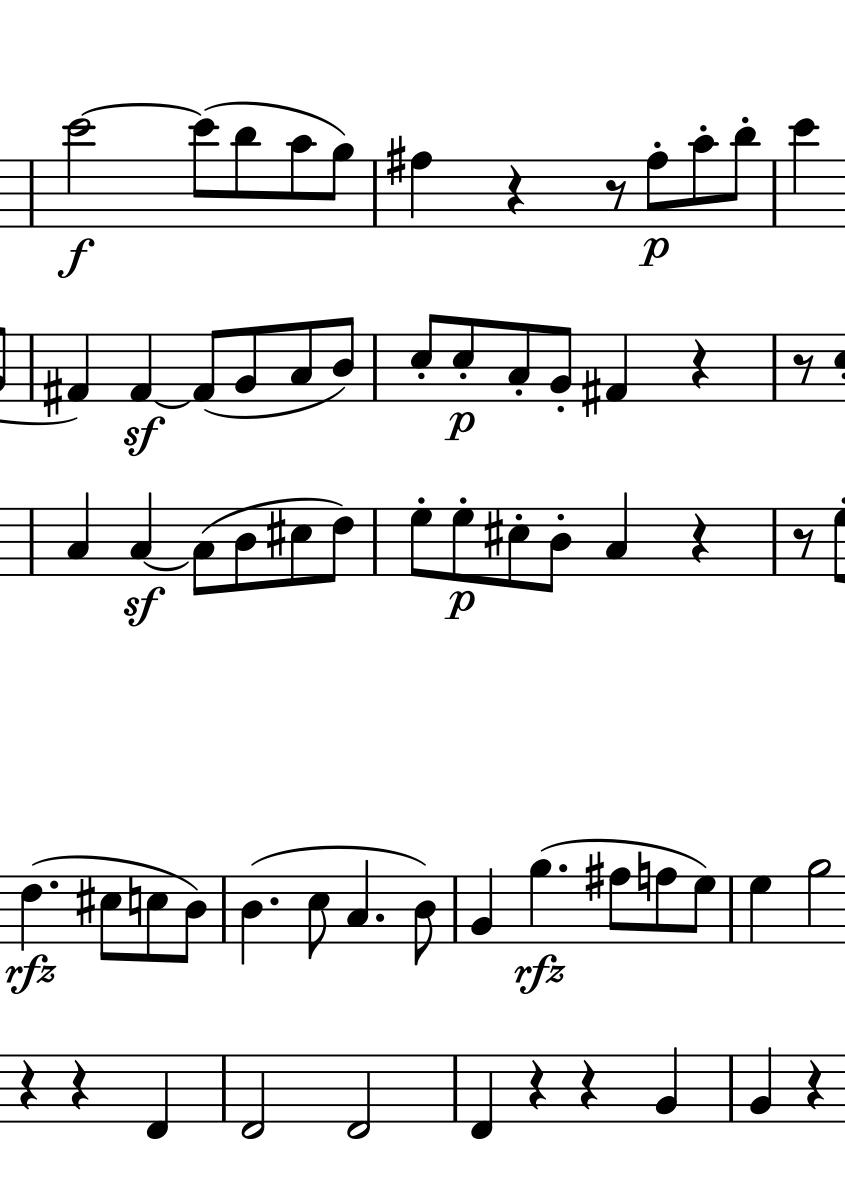2_-1: (346, 1052, 372, 1141), (241, 1053, 266, 1141)
2_12: (62, 117, 100, 229)
2_9: (806, 857, 831, 943)
4_-1: (144, 1052, 170, 1141), (469, 1054, 494, 1141)
4_1: (605, 333, 630, 404), (66, 332, 90, 403), (130, 332, 153, 403)
4_12: (788, 118, 820, 229)
4_2: (746, 1044, 774, 1124), (655, 1044, 679, 1125), (470, 866, 494, 946)
4_3: (128, 490, 154, 578), (344, 857, 370, 945), (604, 491, 629, 577), (67, 489, 91, 578)
4_4: (239, 874, 266, 969)
4_6: (17, 875, 45, 954)
4_7: (748, 874, 771, 945)
4_8: (409, 151, 434, 232)
4_9: (526, 858, 553, 946)
8_1: (189, 328, 223, 404)
8_10: (688, 134, 720, 229), (286, 133, 316, 229)
8_11: (727, 126, 760, 228), (230, 125, 260, 229)
8_12: (188, 116, 220, 230)
8_2: (549, 324, 572, 404), (235, 326, 257, 404)
8_3: (191, 508, 216, 598), (506, 321, 532, 403), (289, 320, 313, 403)
8_4: (537, 508, 572, 594), (175, 874, 206, 966), (412, 874, 438, 968), (232, 506, 259, 593), (333, 316, 355, 404)
8_5: (409, 313, 440, 401), (305, 875, 331, 962), (144, 876, 168, 965), (452, 316, 476, 403), (506, 508, 531, 589), (288, 507, 313, 587), (100, 876, 122, 961)
8_6: (324, 506, 355, 583)
8_7: (686, 875, 714, 946), (449, 507, 474, 582), (409, 507, 433, 581)
8_8: (607, 866, 632, 945), (646, 150, 670, 231), (653, 867, 677, 945)
8_9: (325, 141, 355, 230)
Natural: (123, 874, 144, 930), (635, 848, 653, 903)
Rests4: (804, 1058, 824, 1115), (505, 164, 525, 217), (527, 1059, 547, 1112), (690, 512, 709, 566), (578, 1058, 597, 1111), (690, 339, 708, 389), (72, 1058, 88, 1111), (20, 1059, 36, 1111)
Rests8: (791, 352, 816, 387), (604, 178, 627, 212), (793, 527, 815, 562)
Sharp: (37, 365, 65, 421), (480, 507, 505, 562), (71, 875, 96, 929), (384, 132, 407, 189), (264, 508, 286, 562), (583, 851, 606, 902), (581, 369, 601, 418)
Single_barline: (722, 875, 741, 943), (722, 1054, 740, 1122), (765, 334, 783, 401), (447, 1054, 464, 1123), (23, 334, 40, 402), (366, 508, 383, 576), (23, 159, 40, 226), (366, 334, 383, 401), (215, 875, 232, 942), (215, 1055, 232, 1122), (23, 509, 40, 575), (766, 508, 782, 575), (767, 161, 782, 228), (448, 876, 463, 942), (367, 161, 382, 226)
Slur: (32, 854, 197, 892), (199, 496, 343, 533), (541, 838, 705, 870), (205, 101, 346, 135), (206, 388, 350, 420), (250, 845, 428, 870), (80, 103, 202, 116), (142, 560, 189, 572), (155, 400, 189, 409)
dot: (47, 878, 60, 892), (267, 895, 280, 909), (556, 862, 568, 875), (372, 911, 385, 923)
f: (49, 234, 99, 283)
p: (442, 588, 477, 624), (637, 237, 670, 269), (445, 411, 473, 443)
rfz: (513, 951, 565, 993), (5, 955, 57, 997)
sf: (120, 414, 170, 458), (123, 585, 163, 629)
